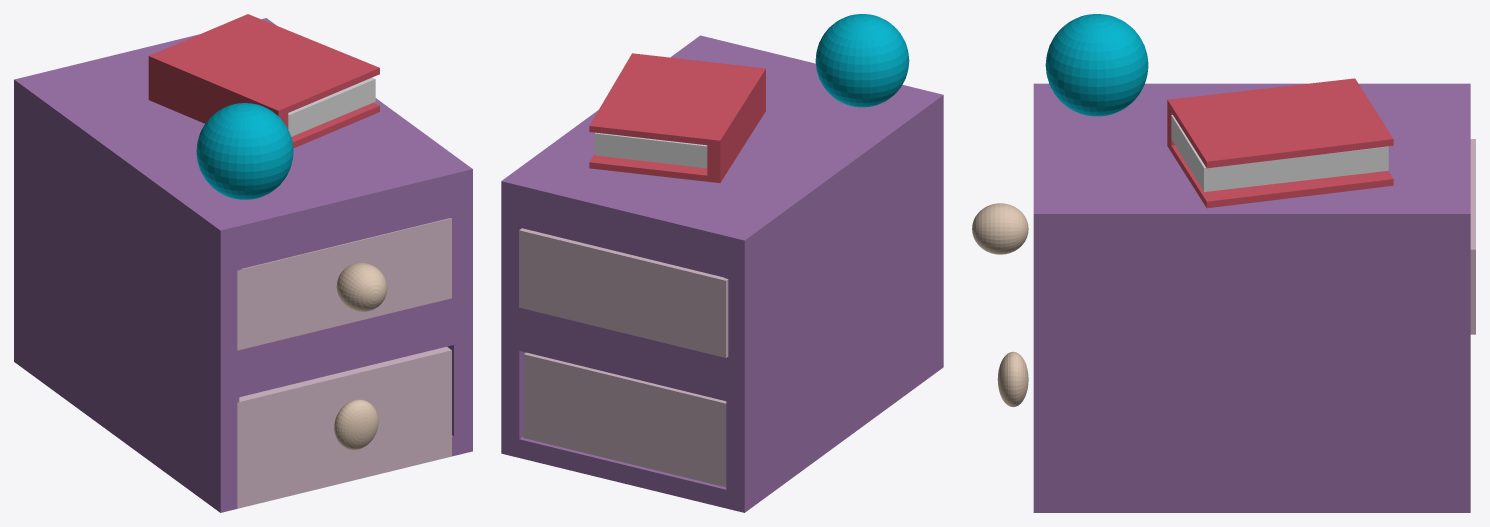
The model's file is Powerful Hillar-Inari.glb.
3 views of the same model, side by side, from view 1: azimuth 30°, elevation 25°; view 2: azimuth 150°, elevation 25°; view 3: azimuth 270°, elevation 25° (orthographic). The views are drawn at different scales.
Parts seen in each view (by area): view 1: Mesh_Mesh_head_geo.001_lambert2SG.001; view 2: Mesh_Mesh_head_geo.001_lambert2SG.001; view 3: Mesh_Mesh_head_geo.001_lambert2SG.001.
Part boxes in pixels (x1,y1,x2,y2): Mesh_Mesh_head_geo.001_lambert2SG.001: (14, 14, 472, 512); Mesh_Mesh_head_geo.001_lambert2SG.001: (501, 14, 943, 512); Mesh_Mesh_head_geo.001_lambert2SG.001: (972, 14, 1475, 512).
Bounding box in the file's own units: 60 × 84.15 × 98.
